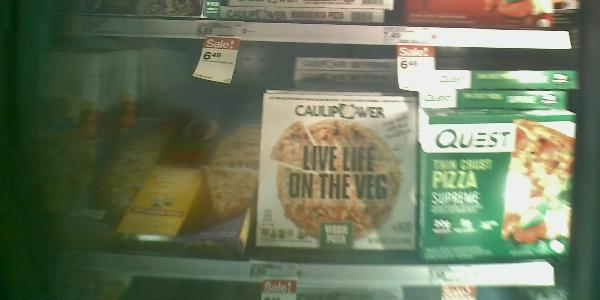pizza: (93, 117, 262, 271), (264, 91, 414, 257), (423, 110, 572, 264)
pizza1: (32, 52, 97, 256), (417, 87, 574, 113), (414, 71, 578, 91), (292, 56, 400, 80), (291, 72, 403, 93)
